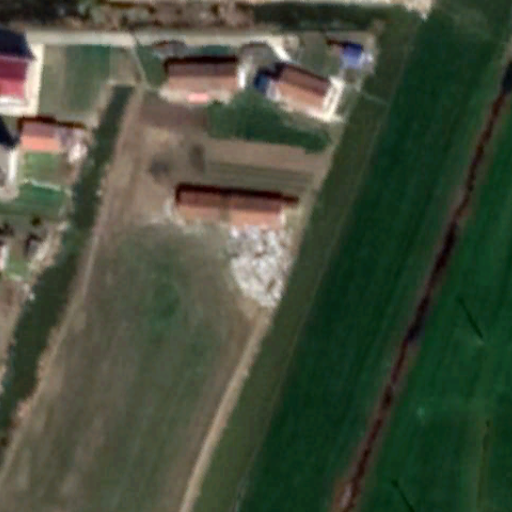msw: (224, 221, 291, 305)
